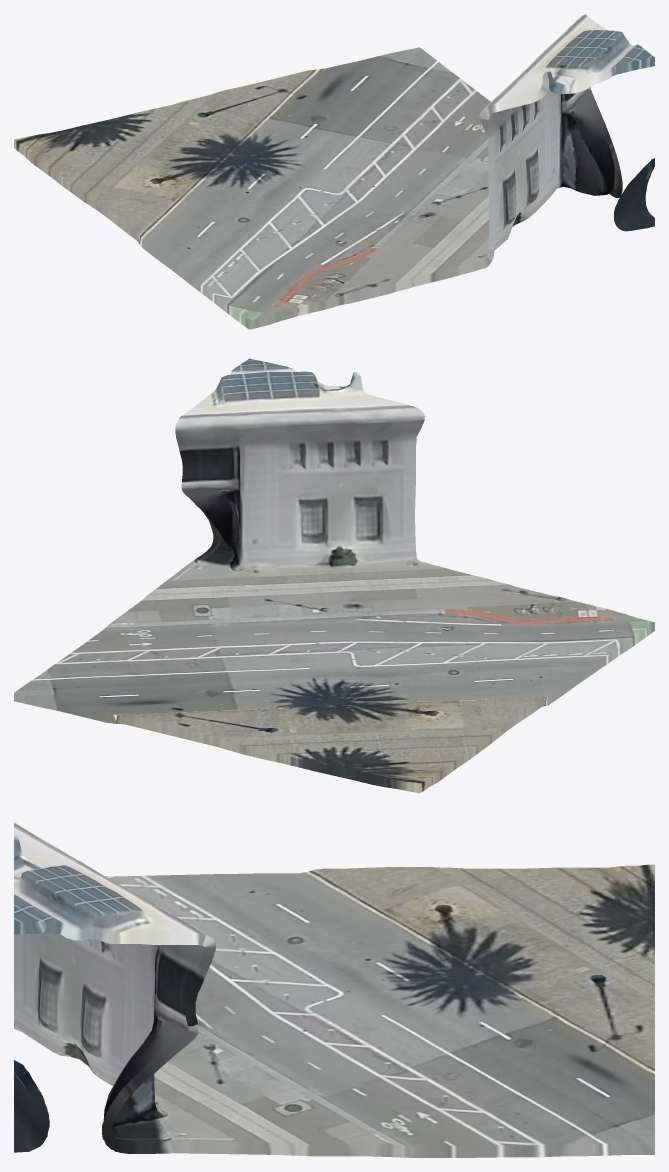
The model's file is z20-167783-405212-h0-yup-uvflip-v3-world.glb.
3 renders of one model, top to bottom at view 1: azimuth 30°, elevation 25°; view 2: azimuth 150°, elevation 25°; view 3: azimuth 270°, elevation 25°, orthographic. The views are drawn at different scales.
Bounding box in the file's own units: 30.16 × 13.24 × 30.32.
Materials: 1 (1 with a texture image).
